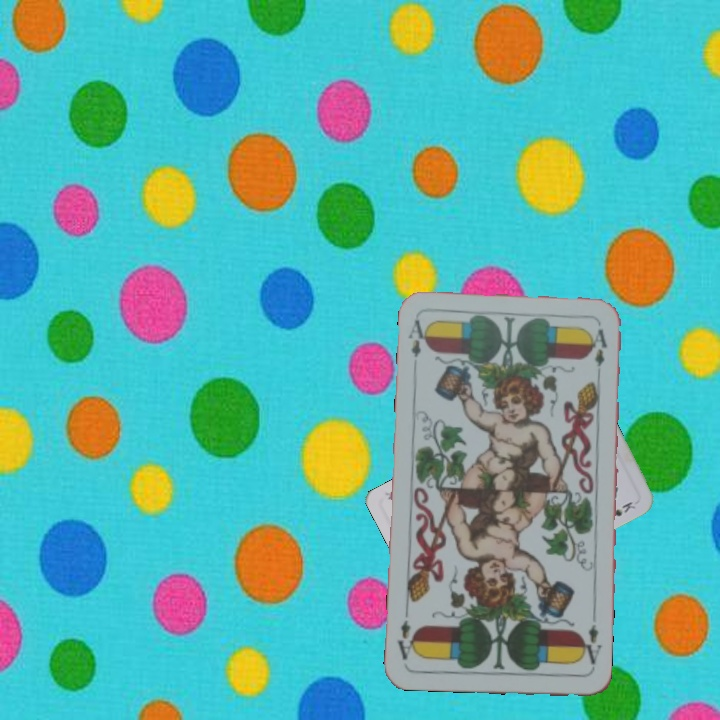EA: (577, 620, 604, 671), (404, 316, 431, 360)
